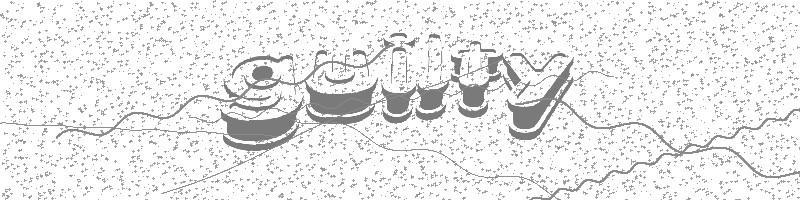g: (220, 49, 304, 149)
i: (380, 26, 416, 125), (415, 26, 449, 122)
t: (445, 39, 504, 116)
u: (295, 45, 379, 124)
y: (504, 46, 575, 139)
